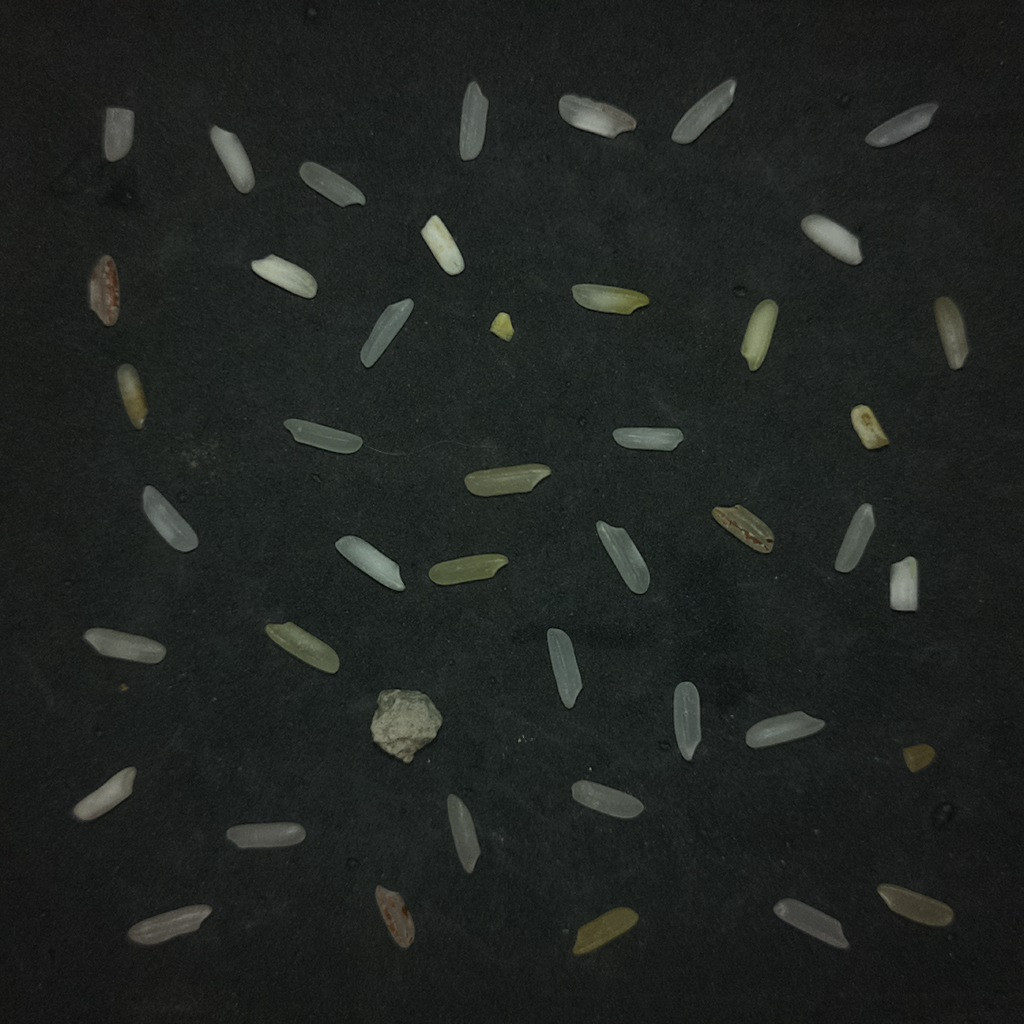broken: (72, 767, 136, 821), (613, 427, 682, 451), (104, 107, 133, 161)
chalky: (336, 535, 405, 590), (72, 767, 136, 821), (558, 94, 636, 138), (801, 214, 862, 264), (209, 126, 254, 193), (250, 254, 317, 298), (421, 214, 464, 275), (890, 556, 918, 611)
discolored: (265, 621, 339, 673), (572, 907, 638, 955), (712, 505, 774, 553), (464, 464, 550, 496), (741, 299, 778, 371), (428, 553, 508, 585), (934, 297, 968, 369), (572, 283, 649, 314), (116, 364, 147, 429), (851, 405, 888, 449), (902, 744, 935, 772), (490, 312, 514, 341)
foreign: (371, 689, 442, 763)
red: (375, 885, 414, 948), (88, 255, 120, 326)
whole: (671, 78, 736, 143), (773, 898, 848, 949), (596, 522, 649, 594), (360, 298, 414, 368), (142, 486, 198, 552), (127, 904, 211, 945), (865, 102, 937, 147), (876, 884, 953, 926), (83, 627, 166, 663), (299, 161, 365, 206), (745, 711, 825, 748), (571, 780, 643, 819), (547, 628, 582, 708), (283, 418, 362, 453), (835, 503, 874, 572), (447, 794, 480, 873), (460, 81, 488, 160), (673, 682, 701, 760), (225, 822, 304, 848)
